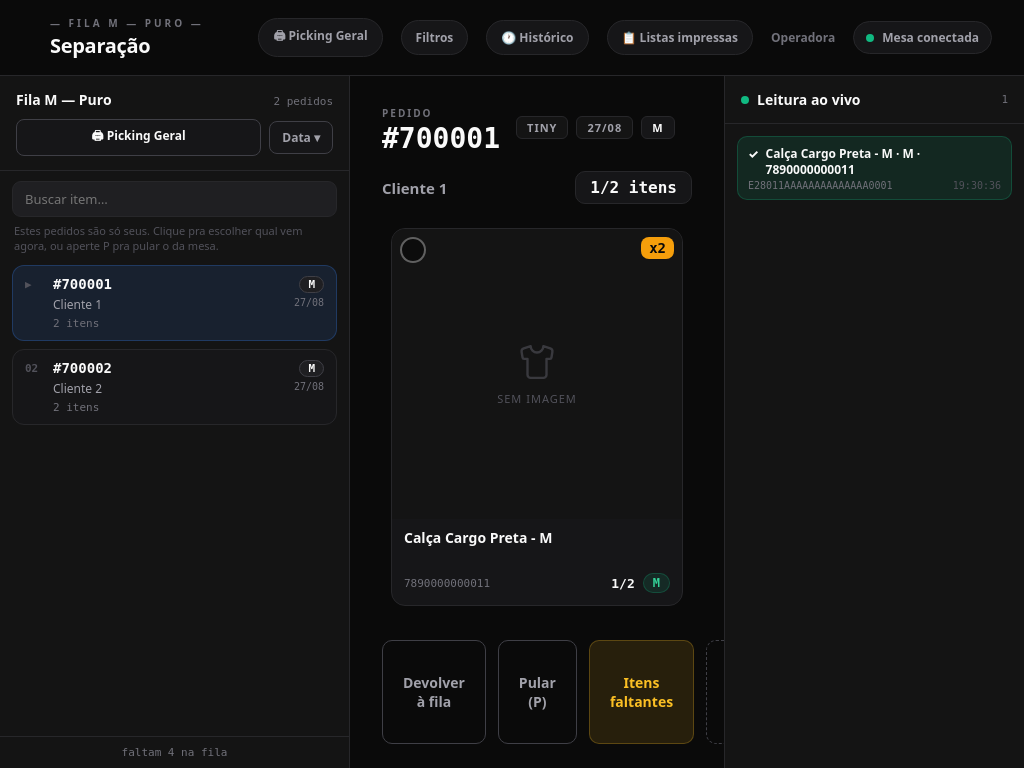
Scenario: Meu lote com pedido em conferência fora do filtro › fica à parte na sidebar e numa seção própria do Picking Geral
// Agora o filtro exclui calça.
Click the button "Filtros" at (434, 38), box [401, 20, 468, 55]
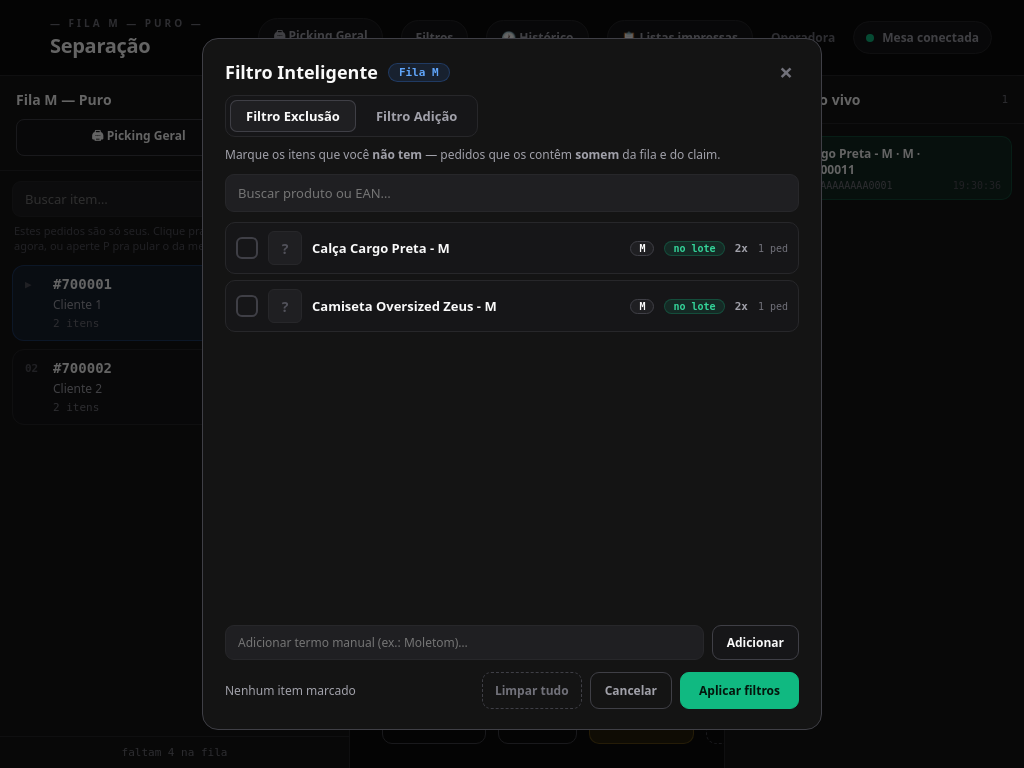
Type "Calça" into the field with placeholder "Adicionar termo manual (ex.: Moletom)…" at (464, 642), box [225, 625, 704, 660]
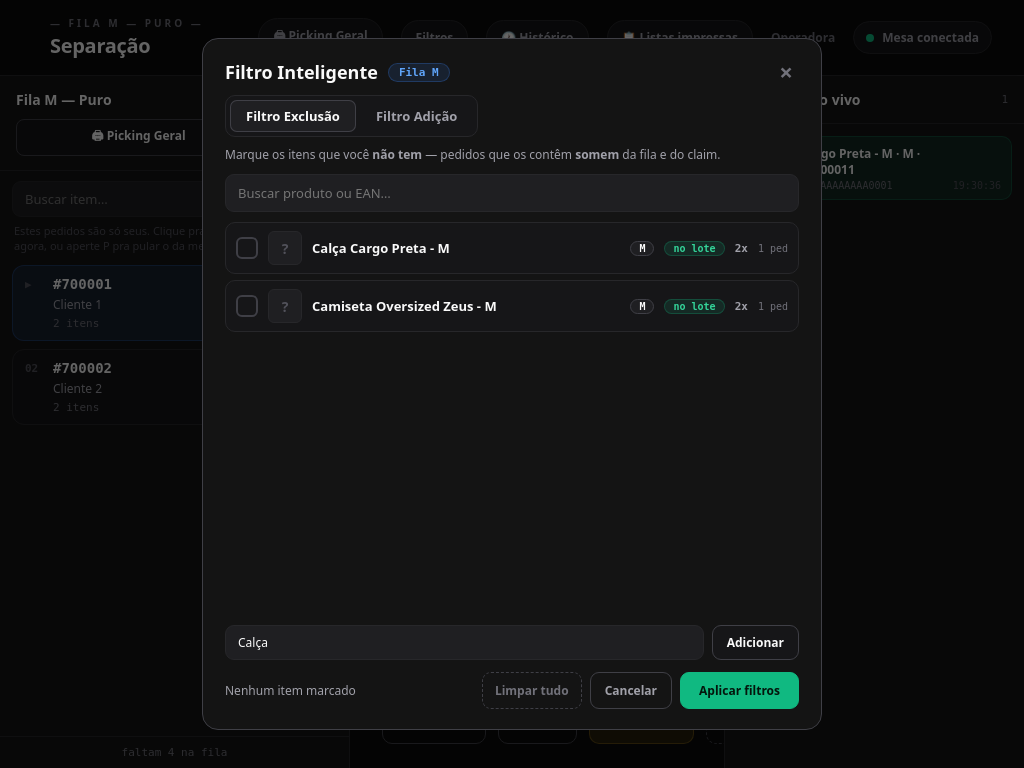
Click the button "Adicionar" at (755, 642), box [712, 625, 799, 660]
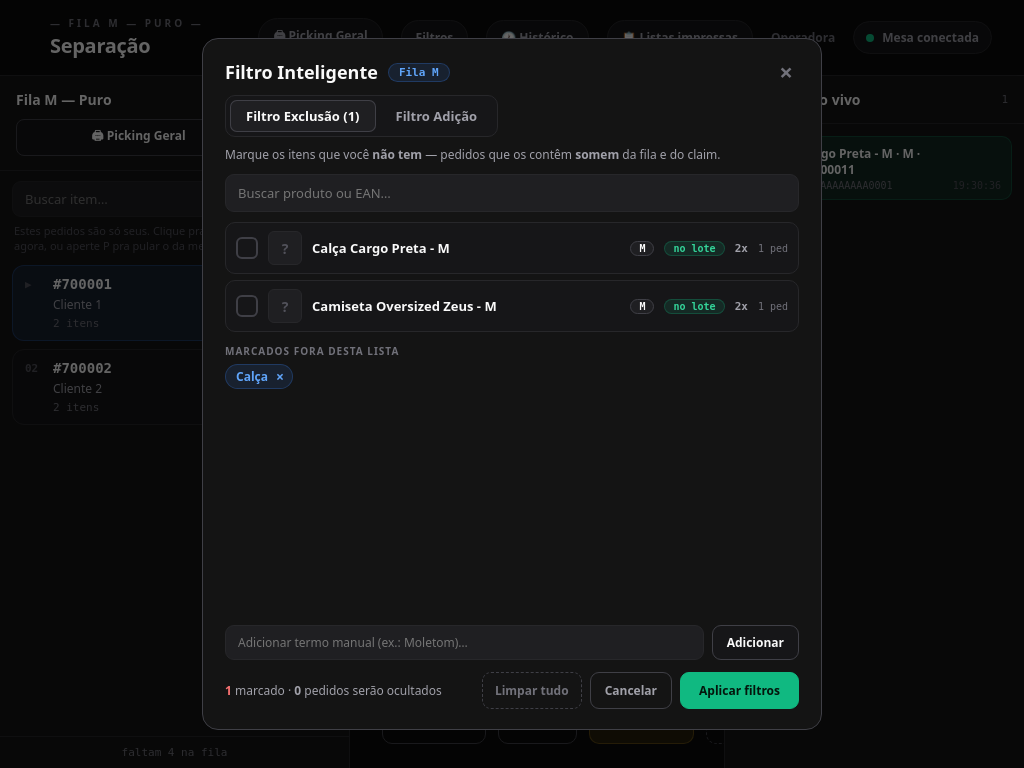
Click the button "Aplicar filtros" at (740, 690), box [680, 672, 799, 709]
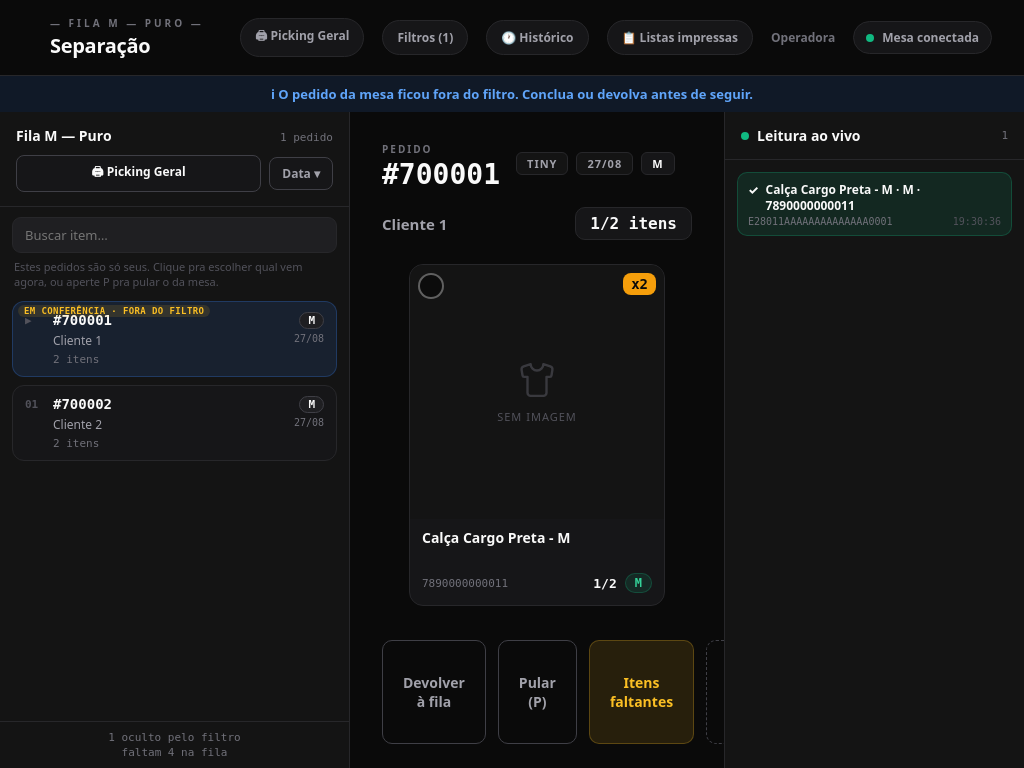
Check: the text "#700001" next to "em conferência · fora do filtro" is shown, box [53, 312, 112, 328]
Check: the text "em conferência · fora do filtro" is shown, box [18, 305, 210, 317]
// Picking Geral, escopo "Meu lote": a calça sai numa seção própria.
Click the button "🖨 Picking Geral" in the row of "Separação" at (302, 38), box [240, 18, 364, 57]
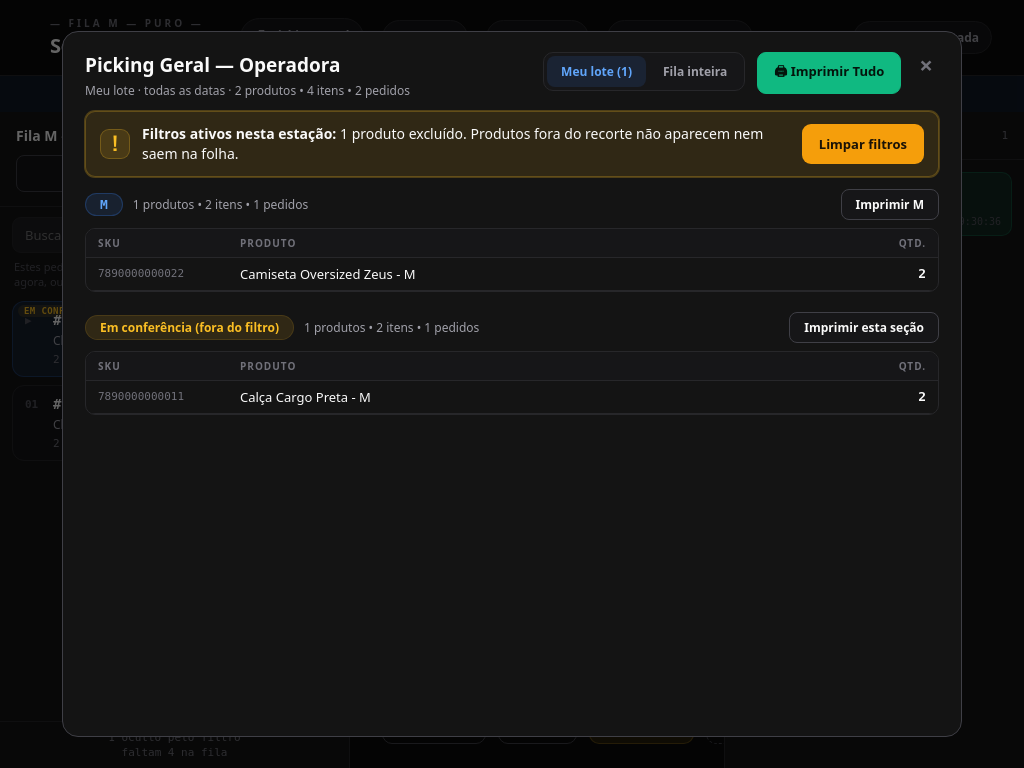
Check: the text "Em conferência (fora do filtro)" is shown, box [85, 315, 294, 340]
Check: the text "Camiseta Oversized Zeus - M" is shown, box [240, 265, 416, 283]
